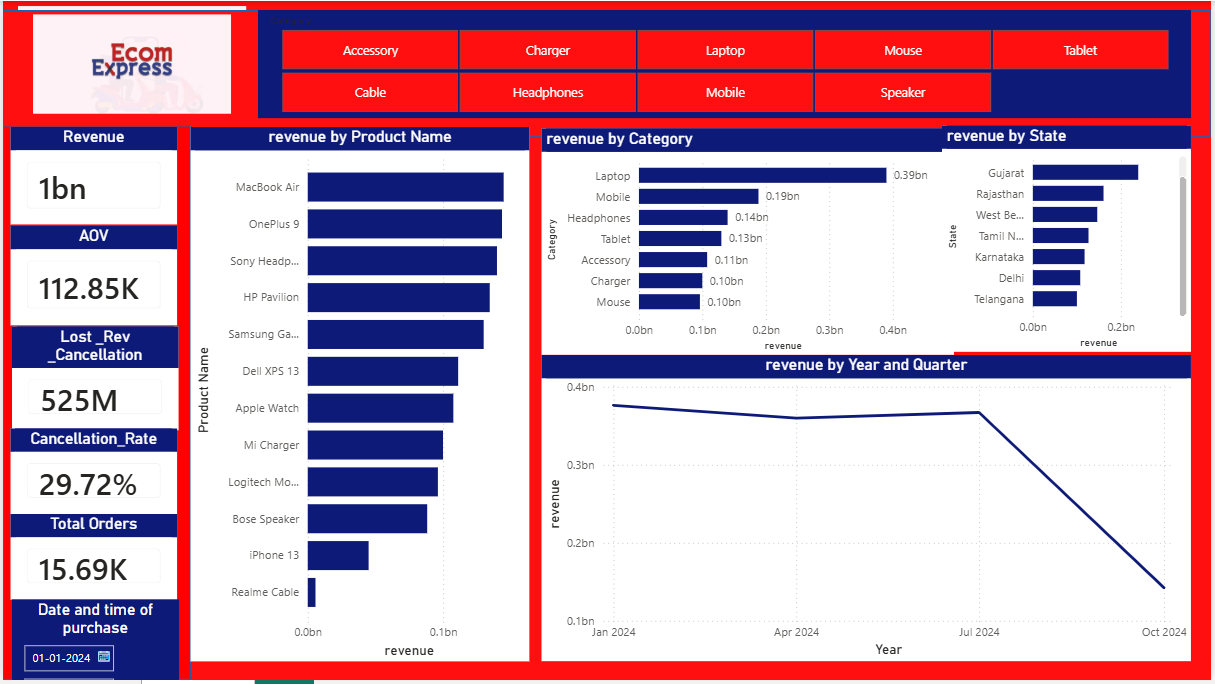

This screenshot's page, from the dashboard's own definition file:
{"tool":"powerbi","page":{"name":"Page 1","canvas":[1280,720],"ordinal":0},"visuals":[{"type":"image","box":[15.9,0,241.8,132],"z":1},{"type":"shape","box":[0,9.7,1280.8,134.4],"z":2},{"type":"image","box":[31.8,9.5,210,114.5],"z":3},{"type":"shape","box":[0,132.8,199.2,587.8],"z":4},{"type":"barChart","fields":{"Y":["table.revenue"],"Category":["product.Product Name"]},"box":[199.2,134.4,359.5,566.7],"z":5},{"type":"barChart","fields":{"Y":["table.revenue"],"Category":["product.Category"]},"box":[571,135.2,437.4,240.2],"z":6},{"type":"lineChart","fields":{"Y":["table.revenue"],"Category":["orders.Date and time of purchase.Variation.Date Hierarchy.Year","orders.Date and time of purchase.Variation.Date Hierarchy.Quarter","orders.Date and time of purchase.Variation.Date Hierarchy.Month","orders.Date and time of purchase.Variation.Date Hierarchy.Day"]},"box":[571,375.4,688.7,324.5],"z":7},{"type":"barChart","fields":{"Category":["customer.State"],"Y":["table.revenue"]},"box":[995.7,132,264,240.2],"z":8},{"type":"slicer","fields":{"Values":["product.Category"]},"box":[270.4,9.7,989.3,115],"z":9},{"type":"cardVisual","title":"Revenue","fields":{"Data":["table.revenue"]},"box":[8.1,134.4,176.5,103.6],"z":10},{"type":"cardVisual","title":"AOV","fields":{"Data":["table.AOV"]},"box":[8.1,238,176.5,105.2],"z":11},{"type":"cardVisual","title":"Lost _Rev _Cancellation","fields":{"Data":["table.lost_rev_cancellation"]},"box":[9.7,344.9,176.5,110.1],"z":12},{"type":"cardVisual","title":"Cancellation_Rate","fields":{"Data":["table.cancellation rate"]},"box":[8.1,453.4,176.5,90.7],"z":13},{"type":"cardVisual","title":"Total Orders","fields":{"Data":["CountNonNull(orders.OrderID)"]},"box":[8.1,544.1,176.5,90.7],"z":14},{"type":"slicer","title":"Date and time of purchase","fields":{"Values":["orders.Date and time of purchase"]},"box":[9.7,634.7,176.5,85.8],"z":15}]}

Visuals, with their boxes in screenshot pixels (x1, y1, x2, y2), scaled from the page's 1280x720 canvas onto the 1215x684 screenshot:
image: (15, 0, 245, 125)
shape: (0, 9, 1214, 137)
image: (30, 9, 230, 118)
shape: (0, 126, 189, 683)
barChart - table.revenue x product.Product Name: (189, 128, 530, 666)
barChart - table.revenue x product.Category: (542, 128, 957, 357)
lineChart - table.revenue x orders.Date and time of purchase.Variation.Date Hierarchy.Year: (542, 357, 1196, 665)
barChart - customer.State x table.revenue: (945, 125, 1196, 354)
slicer - product.Category: (257, 9, 1196, 118)
"Revenue" cardVisual: (8, 128, 175, 226)
"AOV" cardVisual: (8, 226, 175, 326)
"Lost _Rev _Cancellation" cardVisual: (9, 328, 177, 432)
"Cancellation_Rate" cardVisual: (8, 431, 175, 517)
"Total Orders" cardVisual: (8, 517, 175, 603)
"Date and time of purchase" slicer: (9, 603, 177, 683)
